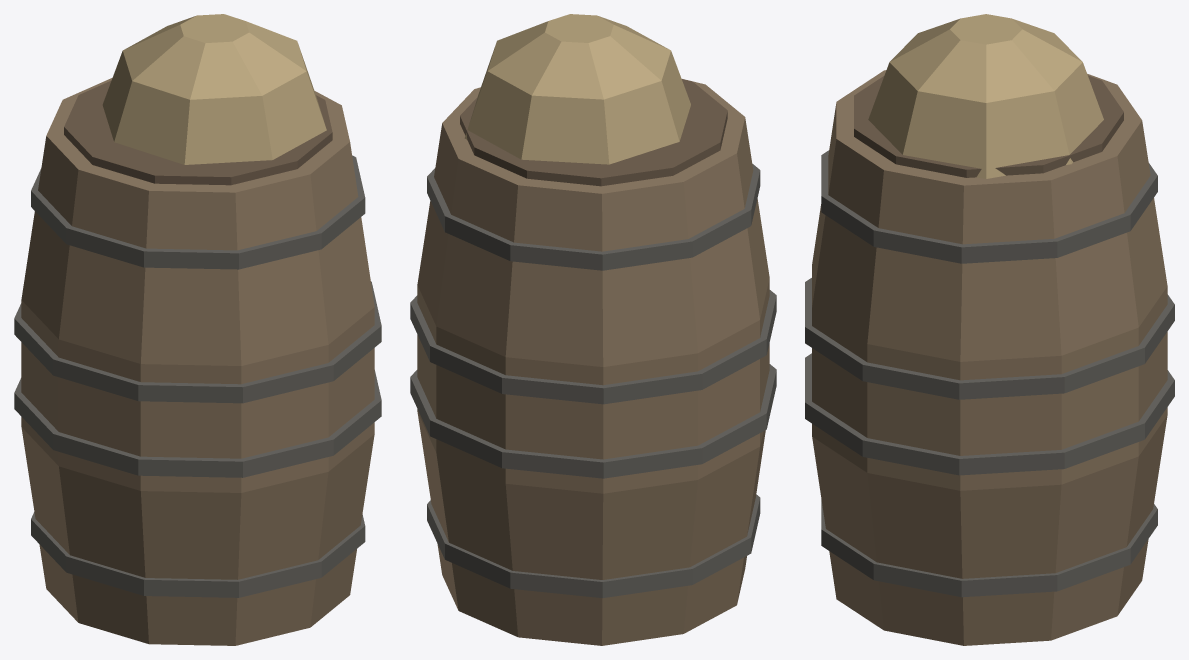
File: barrel_2_2.glb
3 renders of one model, left to right at view 1: azimuth 30°, elevation 25°; view 2: azimuth 150°, elevation 25°; view 3: azimuth 270°, elevation 25°, orthographic.
Visible parts, largest first — view 1: Barrel_2_2; view 2: Barrel_2_2; view 3: Barrel_2_2.
Boxes of the visible parts, x1=… form: Barrel_2_2: x1=14, y1=14, x2=381, y2=645; Barrel_2_2: x1=410, y1=14, x2=776, y2=645; Barrel_2_2: x1=805, y1=14, x2=1174, y2=645.
Bounding box in the file's own units: 0.6176 × 1.02 × 0.6114.
